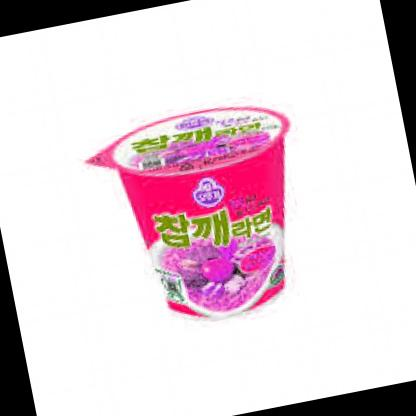Ramen: (101, 90, 318, 342)
